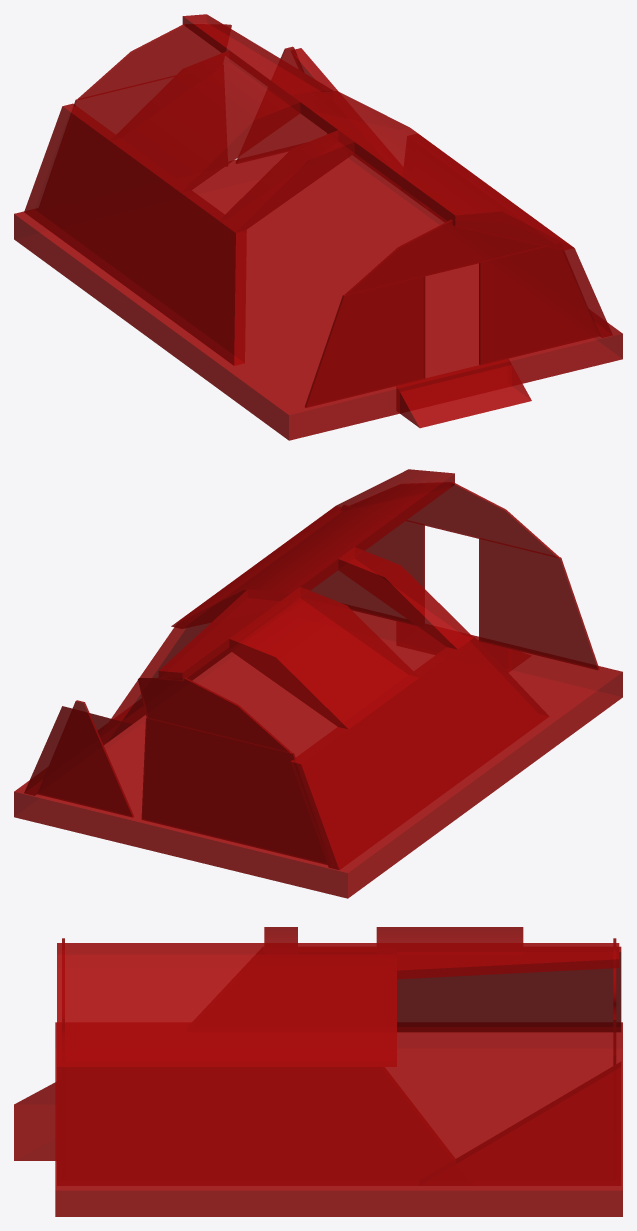
Rendered from SM_Bld_Tent_Destroyed_01_Collision.fbx.
3 views of the same model, one above another, from view 1: azimuth 30°, elevation 25°; view 2: azimuth 150°, elevation 25°; view 3: azimuth 270°, elevation 25° (orthographic). The views are drawn at different scales.
Parts seen in each view (by area): view 1: SM_Bld_Tent_Destroyed_01_Collision; view 2: SM_Bld_Tent_Destroyed_01_Collision; view 3: SM_Bld_Tent_Destroyed_01_Collision.
Part boxes in pixels (x1,y1,x2,y2): SM_Bld_Tent_Destroyed_01_Collision: (14,14,622,440); SM_Bld_Tent_Destroyed_01_Collision: (14,469,622,898); SM_Bld_Tent_Destroyed_01_Collision: (14,927,622,1216).
Bounding box in the file's own units: 768 × 404 × 1176.
